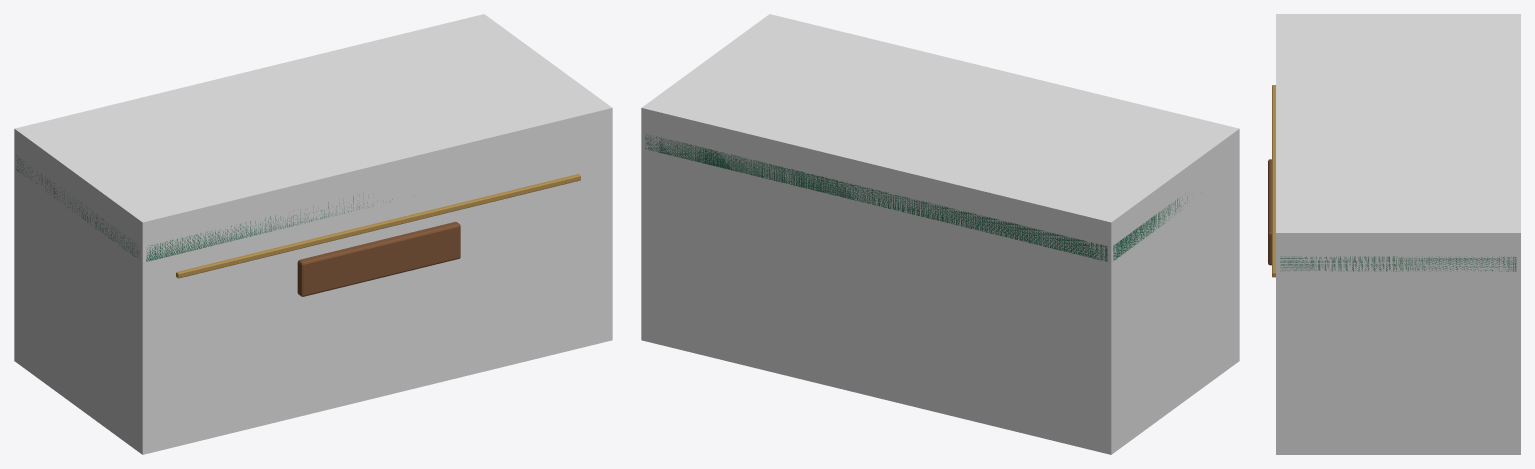
The model's file is office-desk_boutique.glb.
3 views of the same model, side by side, from view 1: azimuth 30°, elevation 25°; view 2: azimuth 150°, elevation 25°; view 3: azimuth 270°, elevation 25° (orthographic). The views are drawn at different scales.
Parts seen in each view (by area): view 1: COL_office-desk, MESH_ServiceScreen, MESH_TierTrim_01, MESH_Worktop; view 2: COL_office-desk, MESH_Worktop; view 3: COL_office-desk, MESH_Worktop, MESH_TierTrim_01, MESH_ServiceScreen.
Part boxes in pixels (<box>): COL_office-desk: <box>14,14,612,454</box>; MESH_ServiceScreen: <box>297,221,460,296</box>; MESH_TierTrim_01: <box>176,174,580,278</box>; MESH_Worktop: <box>16,155,392,261</box>; COL_office-desk: <box>641,14,1239,454</box>; MESH_Worktop: <box>645,133,1187,261</box>; COL_office-desk: <box>1276,14,1520,454</box>; MESH_Worktop: <box>1280,256,1516,271</box>; MESH_TierTrim_01: <box>1272,85,1275,277</box>; MESH_ServiceScreen: <box>1268,159,1271,265</box>.
Size of the model in its own units: 1.65 by 0.78 by 0.8053.
